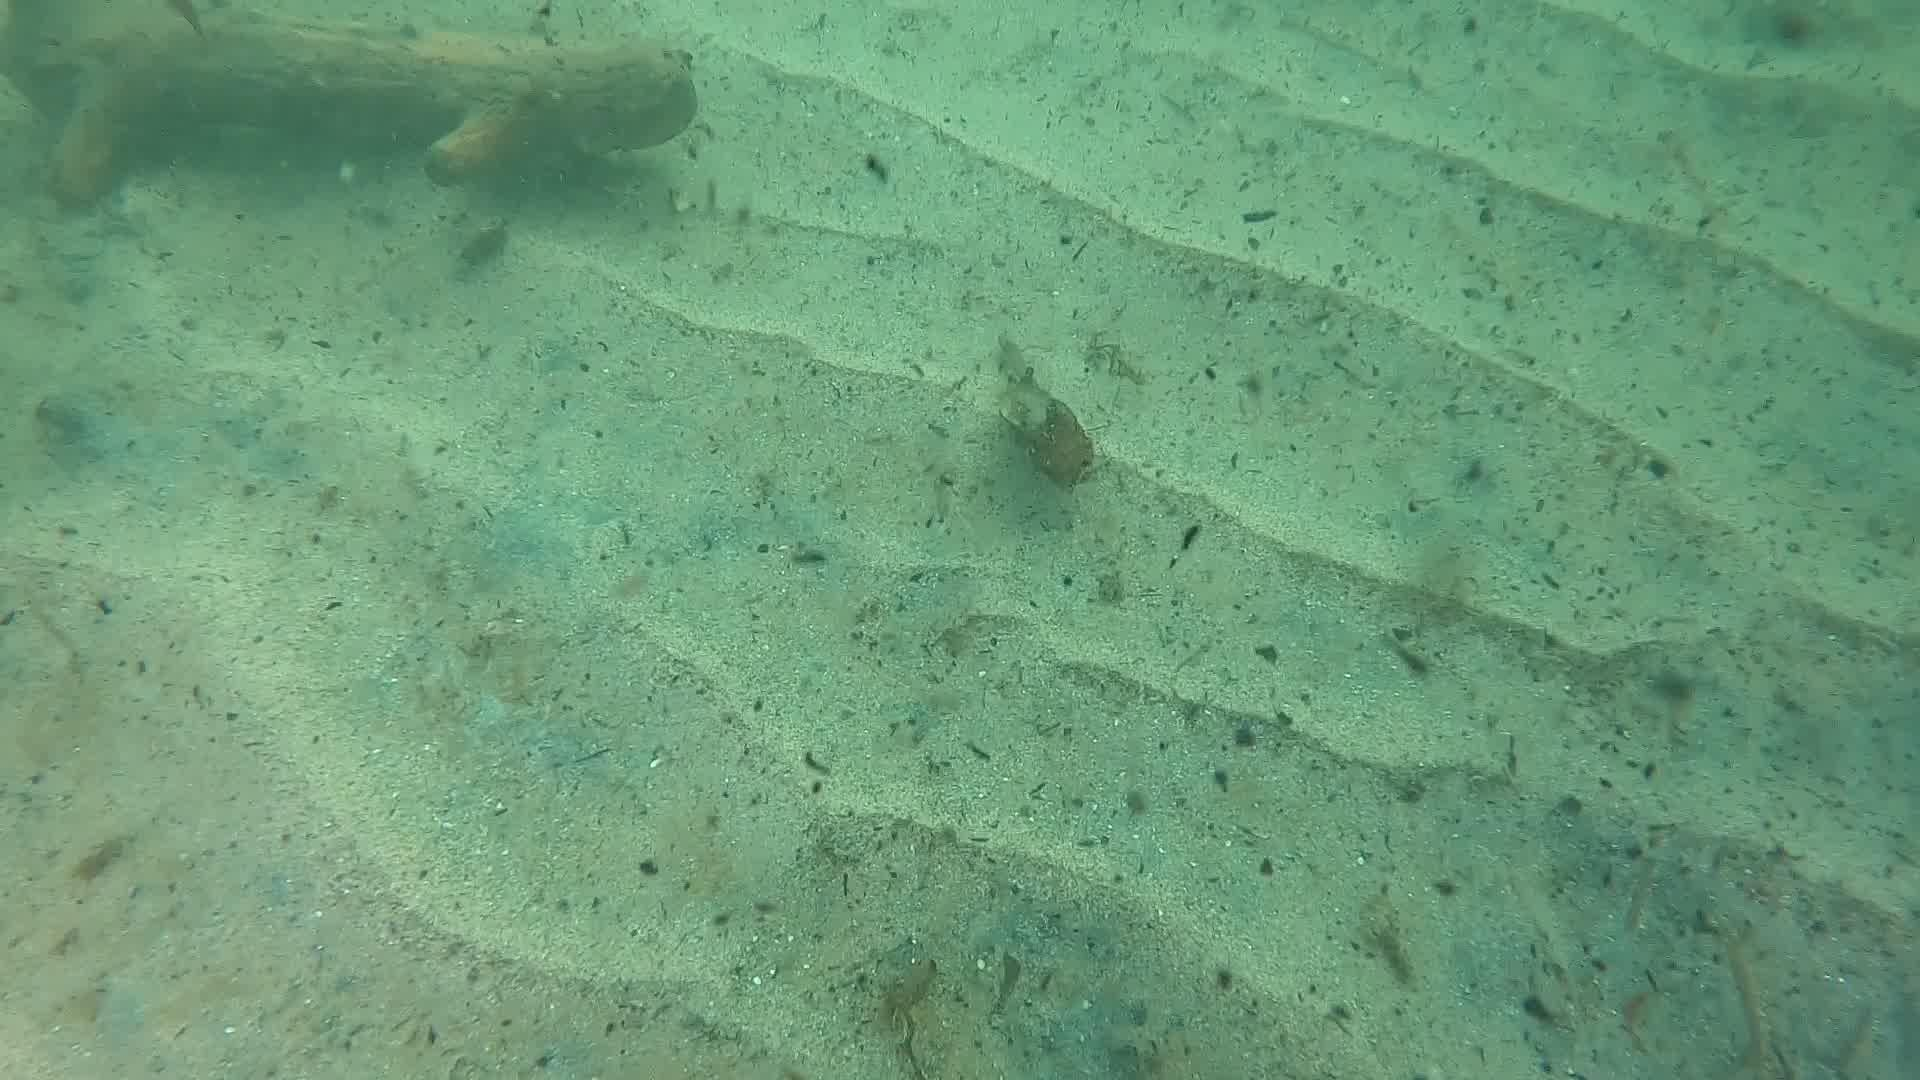wood: (0, 0, 702, 206)
